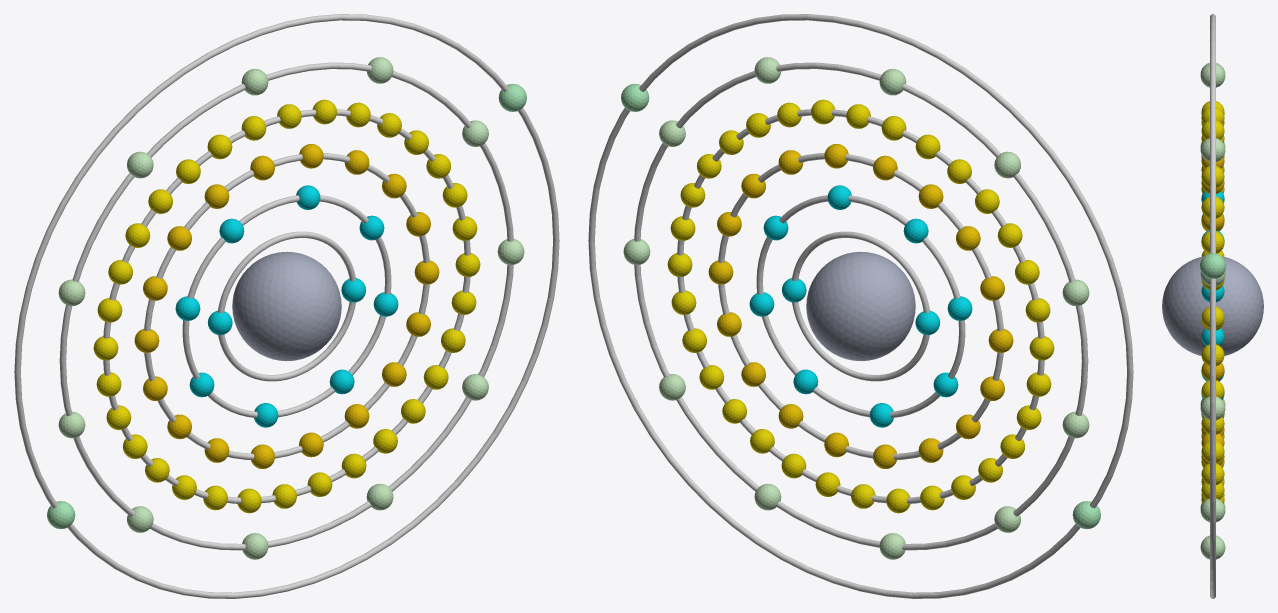
The picture shows the model from 3 angles, left to right: view 1: azimuth 30°, elevation 25°; view 2: azimuth 150°, elevation 25°; view 3: azimuth 270°, elevation 25°; orthographic projection. The views are drawn at different scales.
Parts seen in each view (by area): view 1: world; view 2: world; view 3: world.
Boxes of the visible parts, left/top/right/bottom form: world: left=14, top=14, right=559, bottom=598; world: left=588, top=14, right=1133, bottom=598; world: left=1162, top=14, right=1263, bottom=598.
Size of the model in its own units: 2.53 by 2.53 by 0.44.
